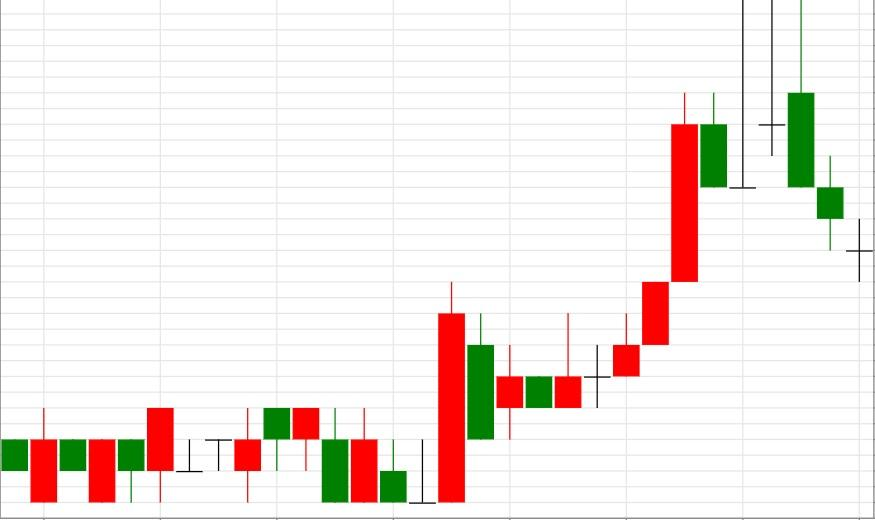morning_star_rise: (262, 280, 466, 505)
